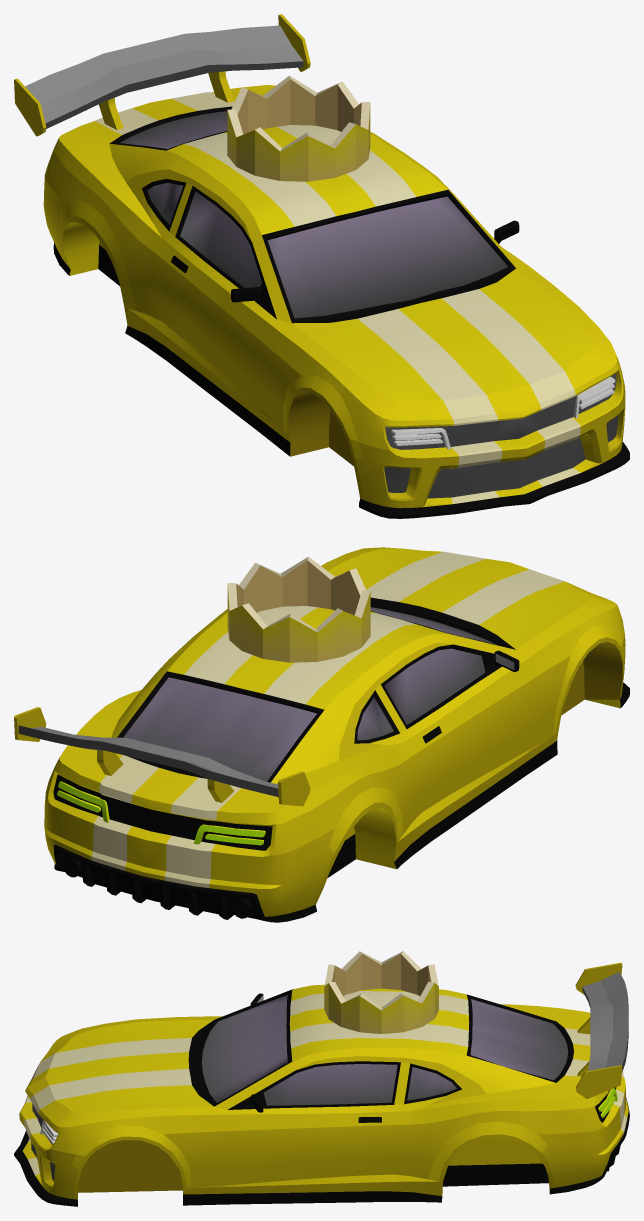
The model's file is Car2.glb.
3 views of the same model, one above another, from view 1: azimuth 30°, elevation 25°; view 2: azimuth 150°, elevation 25°; view 3: azimuth 270°, elevation 25° (orthographic). The views are drawn at different scales.
Visible parts, largest first — view 1: Car2; view 2: Car2; view 3: Car2.
Boxes of the visible parts, left/top/right/bottom form: Car2: left=14, top=14, right=629, bottom=518; Car2: left=14, top=547, right=629, bottom=922; Car2: left=14, top=951, right=629, bottom=1206.
Bounding box in the file's own units: 0.5056 × 0.3871 × 1.18.
